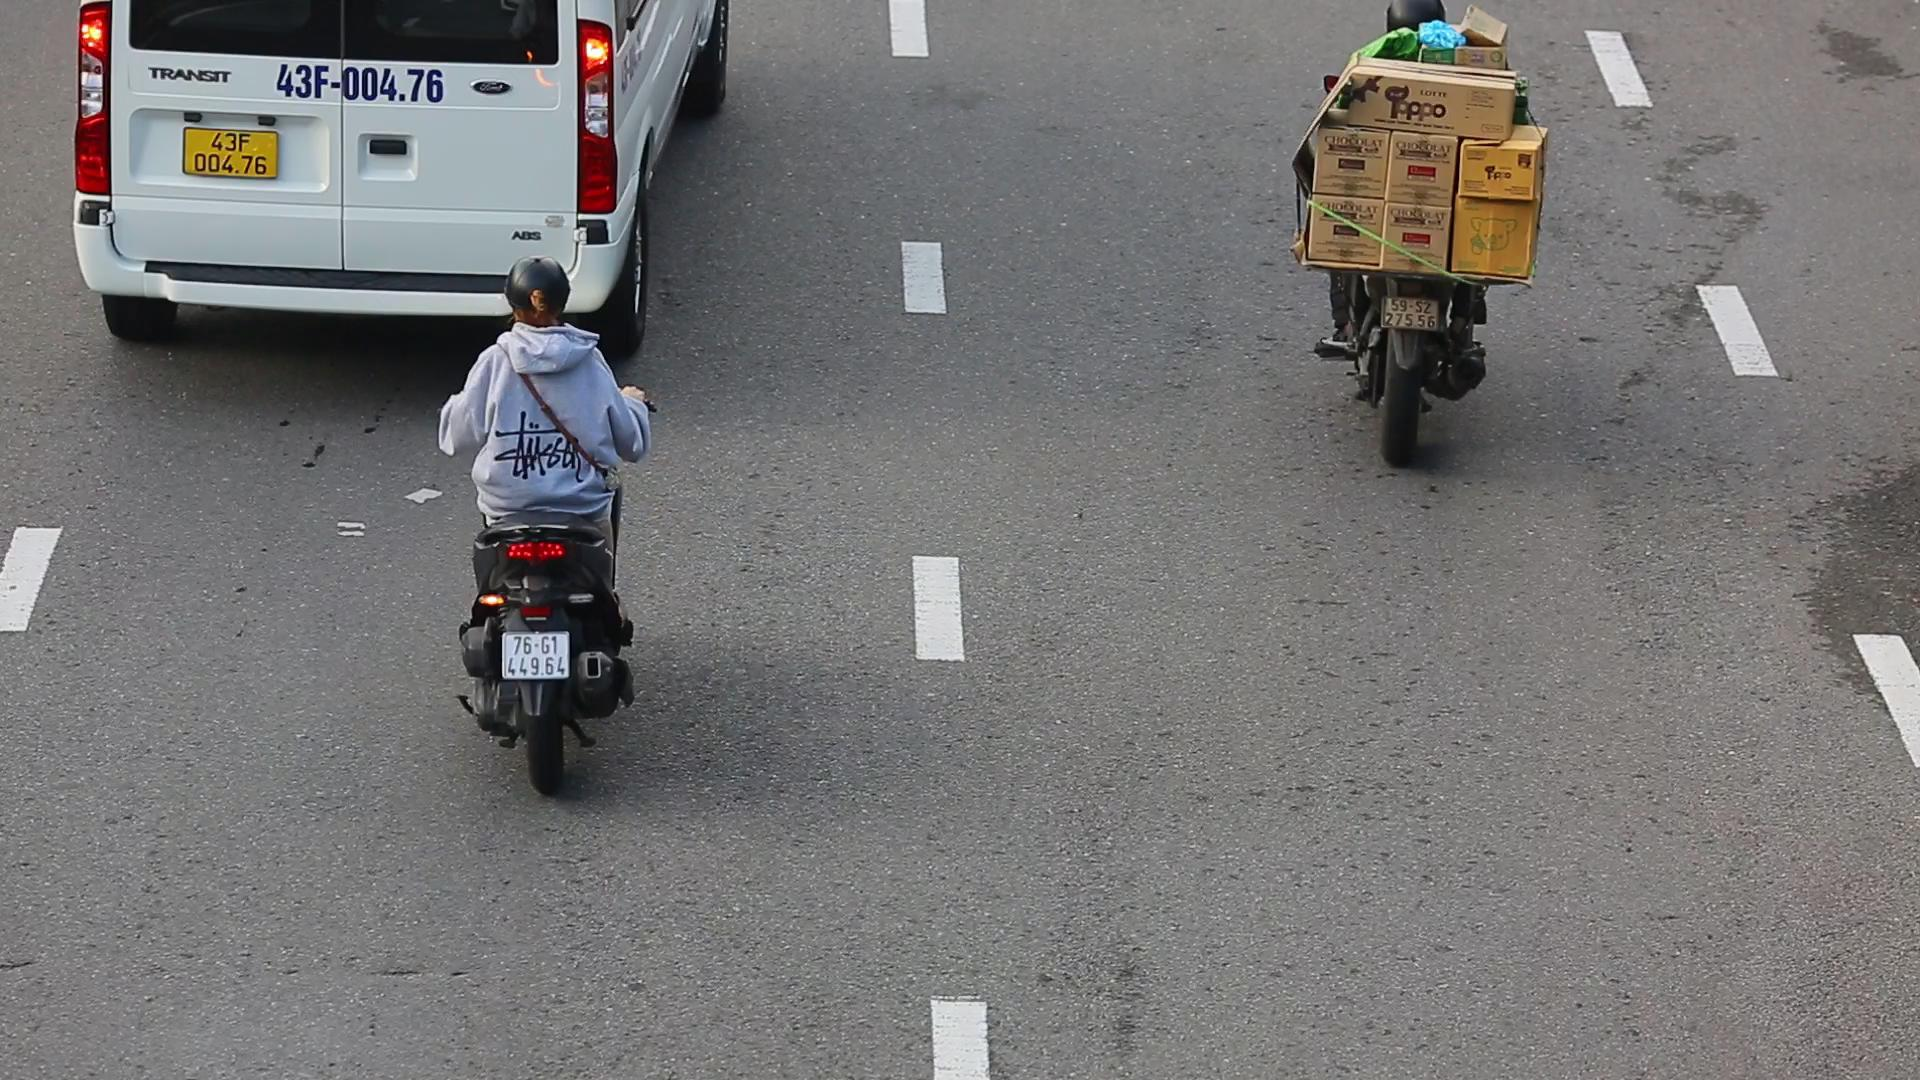motobike: (421, 258, 661, 812)
